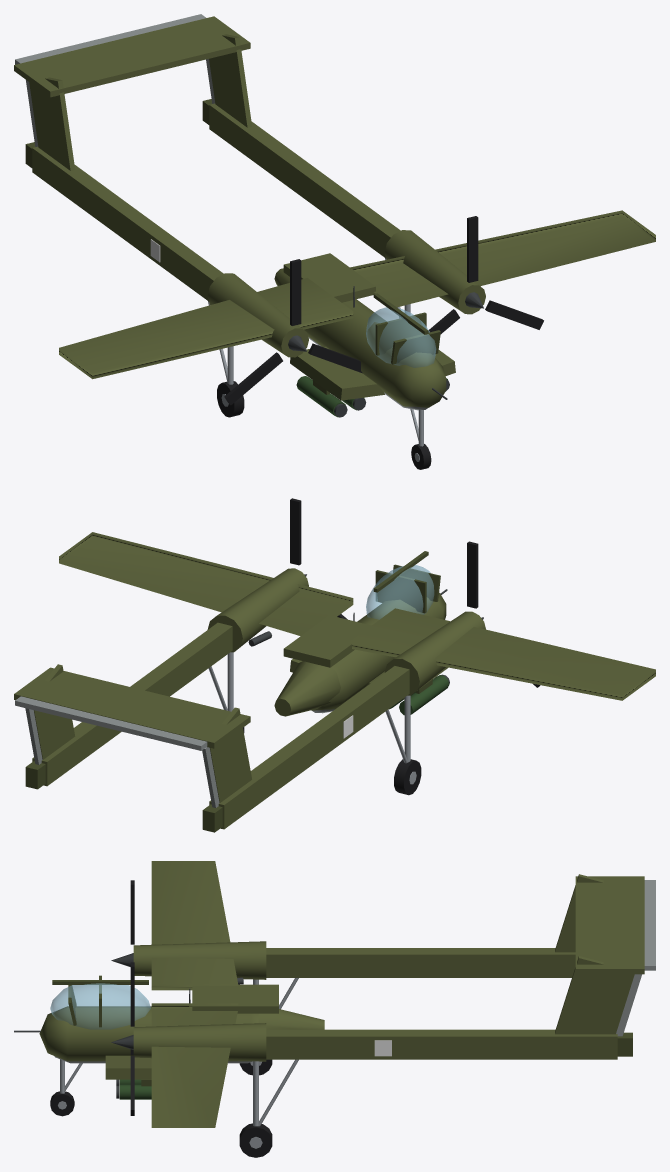
File: ov10-bronco.glb
The picture shows the model from 3 angles, top to bottom: view 1: azimuth 30°, elevation 25°; view 2: azimuth 150°, elevation 25°; view 3: azimuth 270°, elevation 25°; orthographic projection. The views are drawn at different scales.
Visible parts, largest first — view 1: Mesh_MainWingRight, Mesh_MainWingLeft, Mesh_Tailplane, Mesh_BoomL, Mesh_BoomR, Mesh_FuselagePod, Mesh_NacelleL, Mesh_NacelleR, Mesh_Canopy, Mesh_FinR, Mesh_FinL, Mesh_SponsonR (+10 smaller); view 2: Mesh_MainWingRight, Mesh_MainWingLeft, Mesh_Tailplane, Mesh_BoomR, Mesh_BoomL, Mesh_NacelleL, Mesh_FuselagePod, Mesh_NacelleR, Mesh_WingCenter, Mesh_PodTail, Mesh_Canopy, Mesh_Elevator (+11 smaller); view 3: Mesh_BoomL, Mesh_BoomR, Mesh_MainWingRight, Mesh_MainWingLeft, Mesh_Tailplane, Mesh_FuselagePod, Mesh_FinL, Mesh_NacelleL, Mesh_Canopy, Mesh_NacelleR, Mesh_WingCenter, Mesh_Elevator (+8 smaller).
Boxes of the visible parts, x1=… form: Mesh_MainWingRight: x1=59, y1=278, x2=353, y2=379; Mesh_MainWingLeft: x1=349, y1=210, x2=655, y2=307; Mesh_Tailplane: x1=14, y1=16, x2=250, y2=97; Mesh_BoomL: x1=209, y1=103, x2=400, y2=258; Mesh_BoomR: x1=32, y1=146, x2=223, y2=301; Mesh_FuselagePod: x1=304, y1=299, x2=446, y2=407; Mesh_NacelleL: x1=384, y1=230, x2=485, y2=314; Mesh_NacelleR: x1=207, y1=273, x2=308, y2=357; Mesh_Canopy: x1=366, y1=307, x2=436, y2=367; Mesh_FinR: x1=29, y1=77, x2=75, y2=170; Mesh_FinL: x1=209, y1=34, x2=251, y2=127; Mesh_SponsonR: x1=290, y1=346, x2=384, y2=400; Mesh_MainWingRight: x1=349, y1=608, x2=655, y2=700; Mesh_MainWingLeft: x1=59, y1=532, x2=353, y2=635; Mesh_Tailplane: x1=14, y1=667, x2=250, y2=748; Mesh_BoomR: x1=209, y1=666, x2=409, y2=829; Mesh_BoomL: x1=32, y1=622, x2=232, y2=786; Mesh_NacelleL: x1=207, y1=568, x2=308, y2=652; Mesh_FuselagePod: x1=311, y1=592, x2=446, y2=710; Mesh_NacelleR: x1=384, y1=611, x2=485, y2=695; Mesh_WingCenter: x1=283, y1=615, x2=371, y2=667; Mesh_PodTail: x1=274, y1=661, x2=340, y2=716; Mesh_Canopy: x1=366, y1=565, x2=434, y2=619; Mesh_Elevator: x1=15, y1=696, x2=207, y2=750; Mesh_BoomL: x1=266, y1=1029, x2=617, y2=1059; Mesh_BoomR: x1=266, y1=948, x2=575, y2=977; Mesh_MainWingRight: x1=151, y1=861, x2=238, y2=990; Mesh_MainWingLeft: x1=151, y1=1003, x2=238, y2=1127; Mesh_Tailplane: x1=575, y1=876, x2=644, y2=974; Mesh_FuselagePod: x1=39, y1=1006, x2=258, y2=1061; Mesh_FinL: x1=555, y1=956, x2=634, y2=1034; Mesh_NacelleL: x1=133, y1=1023, x2=266, y2=1061; Mesh_Canopy: x1=50, y1=983, x2=150, y2=1029; Mesh_NacelleR: x1=133, y1=941, x2=266, y2=979; Mesh_WingCenter: x1=192, y1=984, x2=278, y2=1013; Mesh_Elevator: x1=644, y1=880, x2=655, y2=970.
Bounding box in the file's own units: 12.1 × 4.3 × 12.6.
